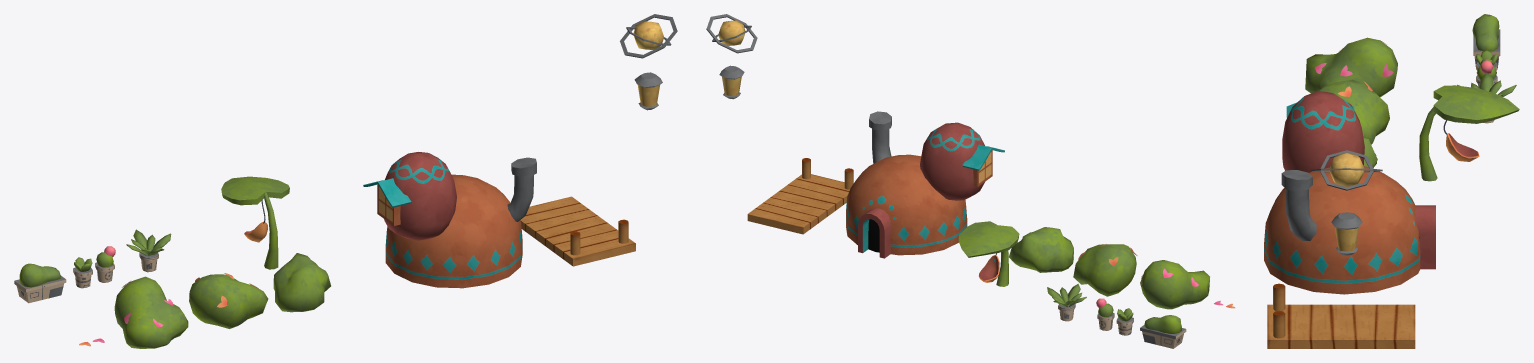
Rendered from HouseAssets_V01.fbx.
3 renders of one model, left to right at view 1: azimuth 30°, elevation 25°; view 2: azimuth 150°, elevation 25°; view 3: azimuth 270°, elevation 25°, orthographic. The views are drawn at different scales.
Visible parts, largest first — view 1: HouseBase, Dock, Bush3, Bush2, Bush1, UmbrellaLeaf, Pot4, RoundLantern, Pot1, RecLantern, Pot2; view 2: HouseBase, Dock, Bush3, Bush2, Bush1, UmbrellaLeaf, Pot4, RoundLantern, Pot1, RecLantern, Pot2, Hammock; view 3: HouseBase, Dock, Bush3, UmbrellaLeaf, Bush2, RoundLantern, Pot4, RecLantern, Hammock, Pot1, Pot2, Bush1 (+1 smaller).
Boxes of the visible parts, x1,y1,x2,y2 form: HouseBase: (363, 152, 536, 288); Dock: (520, 196, 635, 266); Bush3: (114, 276, 188, 348); Bush2: (189, 273, 268, 328); Bush1: (273, 253, 330, 312); UmbrellaLeaf: (221, 176, 289, 269); Pot4: (14, 263, 66, 303); RoundLantern: (620, 14, 677, 58); Pot1: (126, 229, 171, 272); RecLantern: (634, 72, 662, 110); Pot2: (95, 246, 115, 282); HouseBase: (846, 111, 1004, 258); Dock: (747, 158, 853, 234); Bush3: (1140, 260, 1209, 309); Bush2: (1073, 244, 1137, 296); Bush1: (1009, 227, 1073, 272); UmbrellaLeaf: (958, 221, 1019, 286); Pot4: (1140, 315, 1186, 348); RoundLantern: (706, 14, 757, 53); Pot1: (1047, 283, 1086, 321); RecLantern: (719, 65, 744, 99); Pot2: (1096, 298, 1114, 330); Hammock: (979, 253, 999, 282); HouseBase: (1264, 90, 1435, 294); Dock: (1267, 283, 1415, 348); Bush3: (1305, 37, 1397, 97); UmbrellaLeaf: (1419, 85, 1519, 181); Bush2: (1318, 79, 1389, 144); RoundLantern: (1311, 150, 1382, 190); Pot4: (1472, 14, 1500, 67); RecLantern: (1331, 212, 1362, 255); Hammock: (1443, 120, 1479, 161); Pot1: (1457, 72, 1516, 123); Pot2: (1476, 60, 1497, 87); Bush1: (1363, 138, 1377, 167).
Bounding box in the file's own units: 3228 × 1019 × 1046.
Materials: 1 (1 with a texture image).
